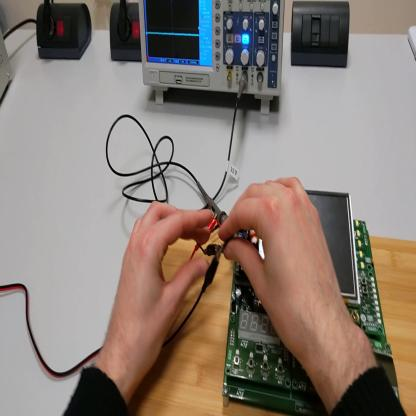hand: (219, 176, 348, 357), (109, 199, 211, 377)
low voltage board: (223, 219, 401, 416), (310, 191, 357, 311)
oscilloscope: (139, 1, 287, 119)
oscilloscope probe tip: (197, 182, 229, 223)
power supply: (2, 18, 15, 112)
socket: (35, 2, 94, 64), (110, 1, 143, 64)
working area: (129, 237, 416, 416)
